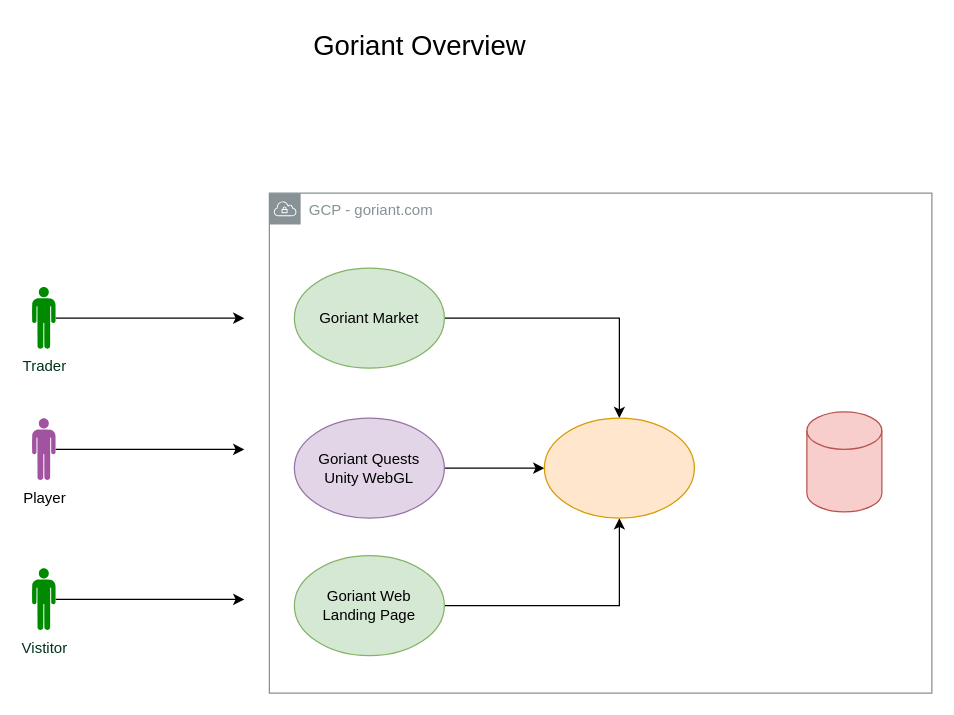
Image size: 954x715. Some labels were removed from this diagram. The centre of each missing label's shape, as x and y in pixels:
"Goriant DB" belongs at point 844,461.
"Goriant MS" belongs at point 618,467.
